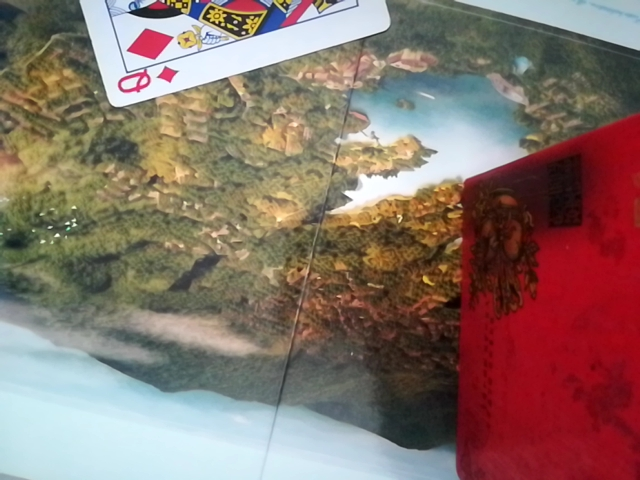fk q: (58, 2, 402, 108)
